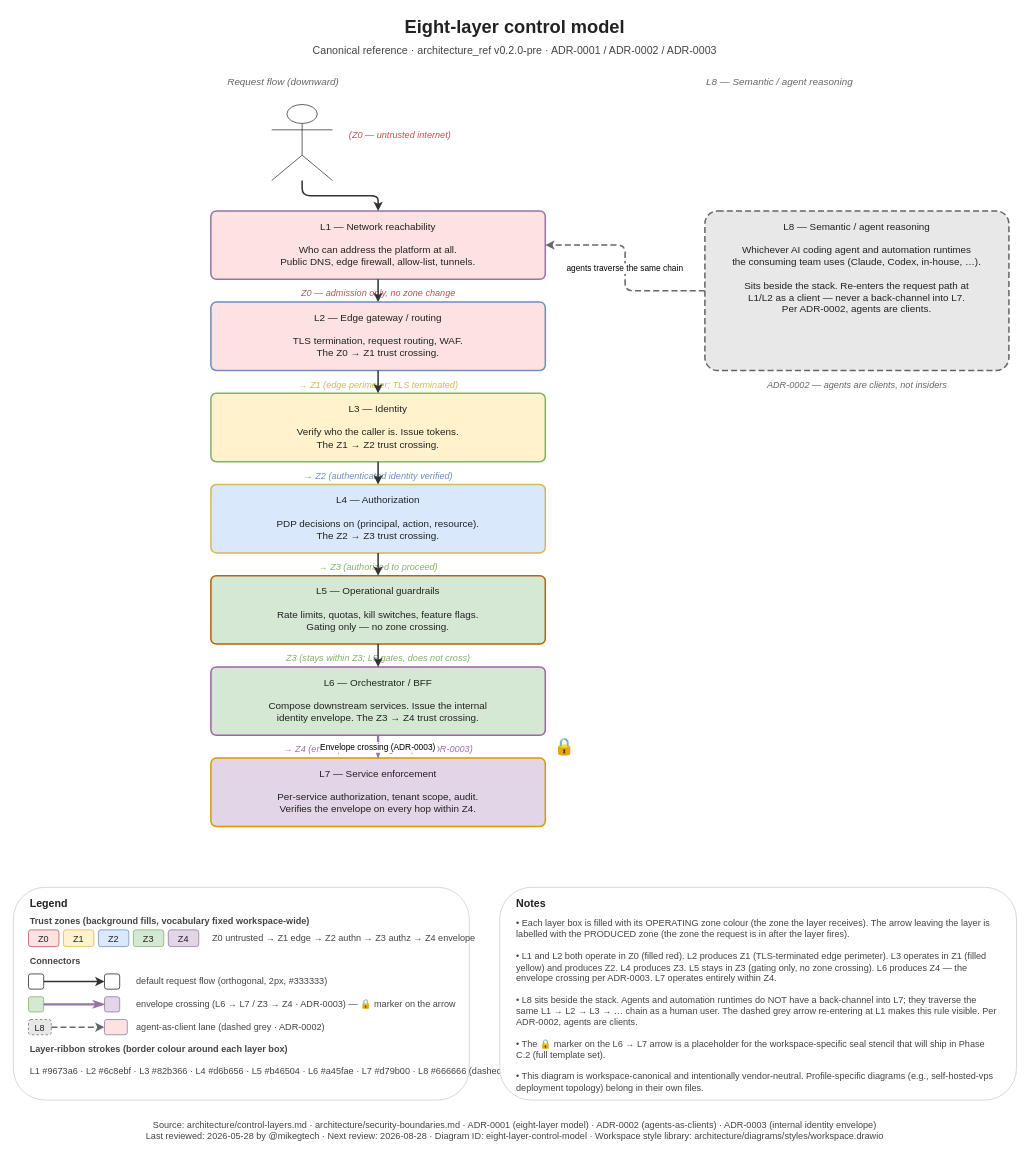
This 1030x1158 diagram has some shape labels left out. The centre of each missing label's shape, as x and y in pixels:
"External client (human user, browser, API caller)" goes at point (301, 142).
"L1" goes at point (115, 1027).
